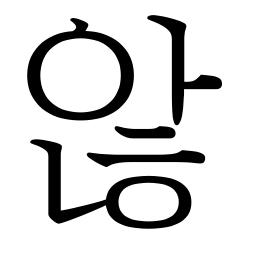Gaji: (158, 64, 203, 106)
